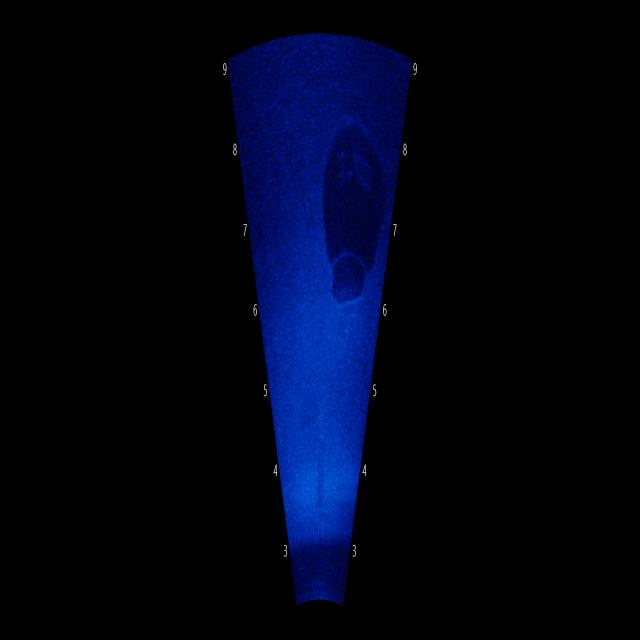circle: (318, 94, 382, 299)
